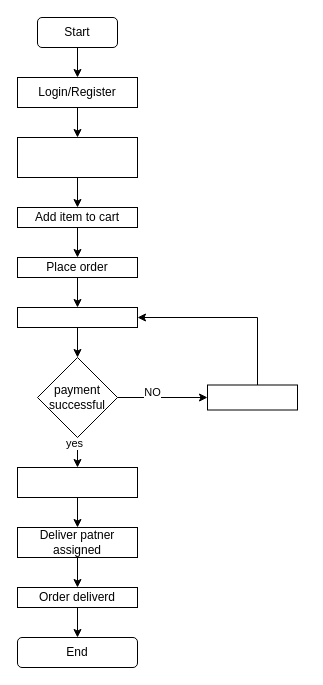
Image size: 323x685. Some labels were removed from this diagram. The box of each missing label's shape, as (x1, y1, x2, y2) in pixels:
Browse restaurants and menu: (16, 136, 138, 178)
Make payment: (16, 306, 138, 328)
Restaurants accept order: (16, 466, 138, 498)
Retry payment: (206, 384, 298, 410)
